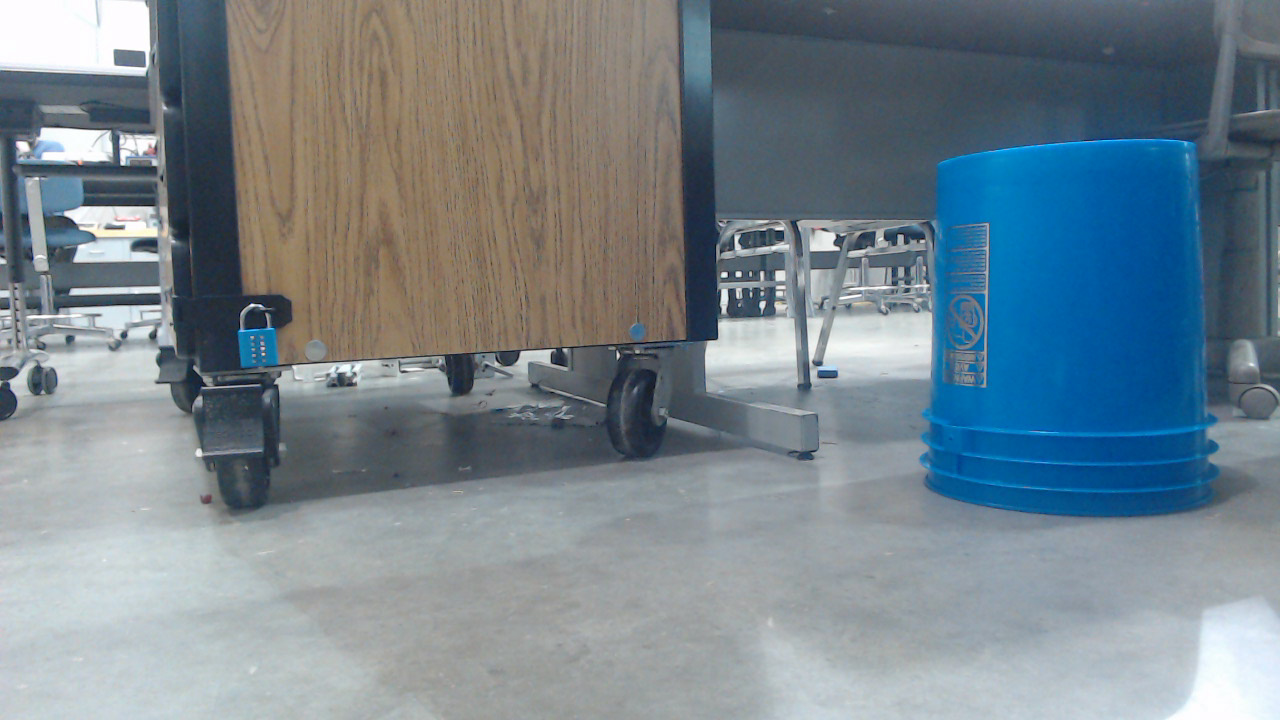blue_bucket: (920, 137, 1233, 528)
